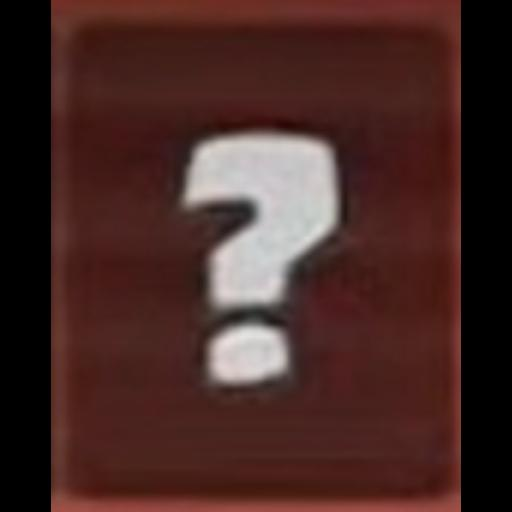mystery-card: (52, 0, 462, 512)
